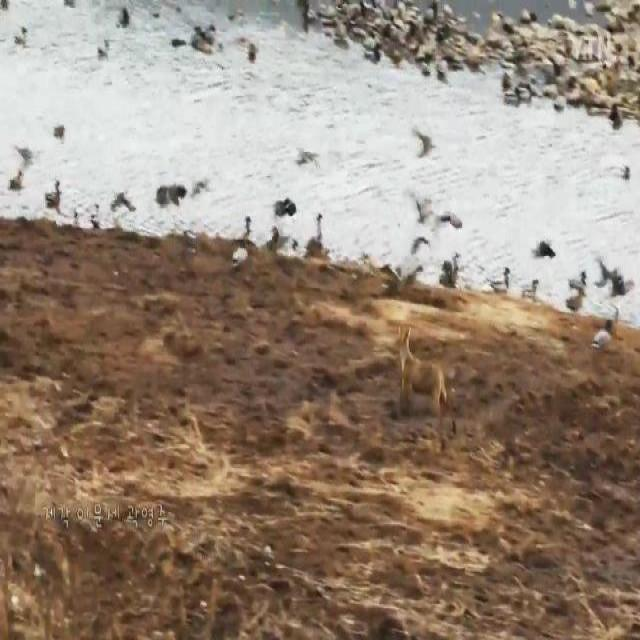deer: (396, 322, 448, 418)
